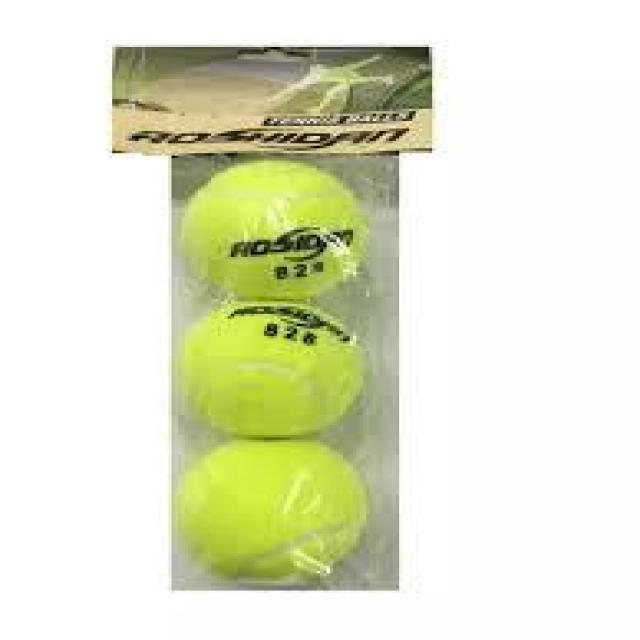ball: (178, 292, 385, 443)
